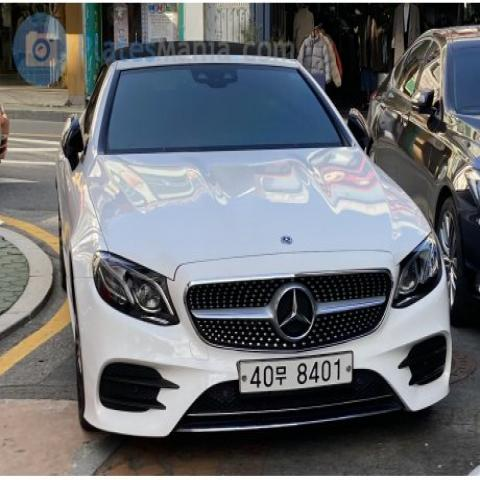LP: (230, 350, 355, 400)
